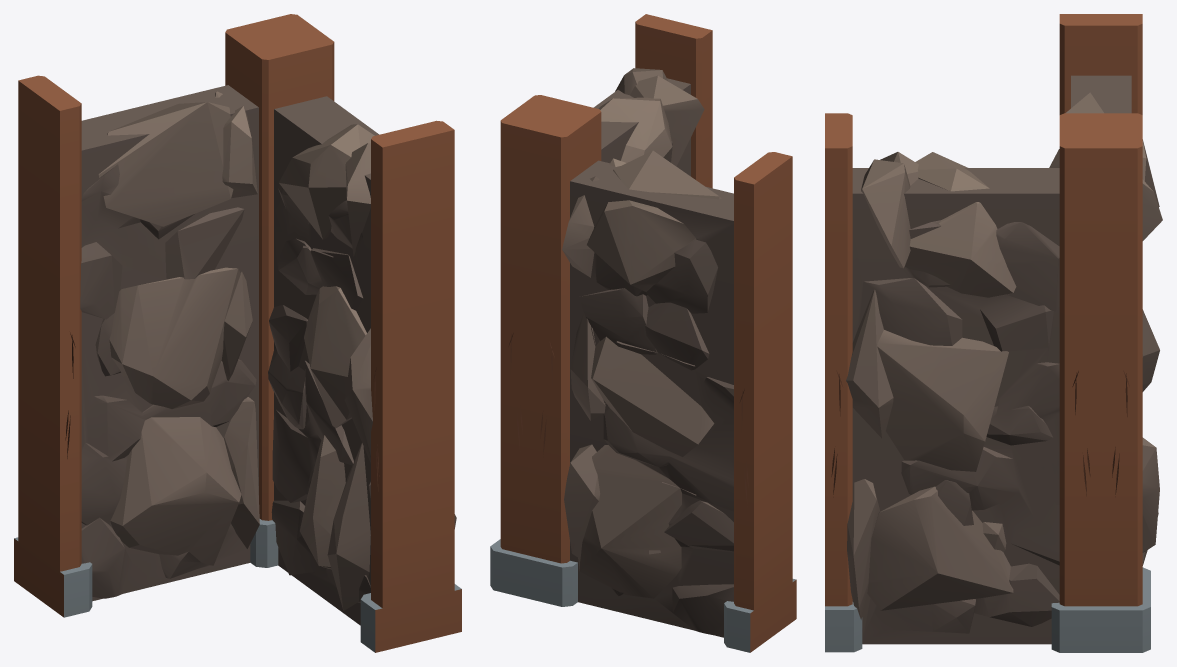
File: wall_cave_corner_B.glb
3 renders of one model, left to right at view 1: azimuth 30°, elevation 25°; view 2: azimuth 150°, elevation 25°; view 3: azimuth 270°, elevation 25°, orthographic. The views are drawn at different scales.
Visible parts, largest first — view 1: Item; view 2: Item; view 3: Item.
Part boxes in pixels (x1,y1,x2,y2): Item: [14, 14, 461, 652]; Item: [490, 14, 796, 652]; Item: [825, 14, 1162, 652].
Size of the model in its own units: 2.48 by 4 by 2.45.
1 material, 1 textured.
